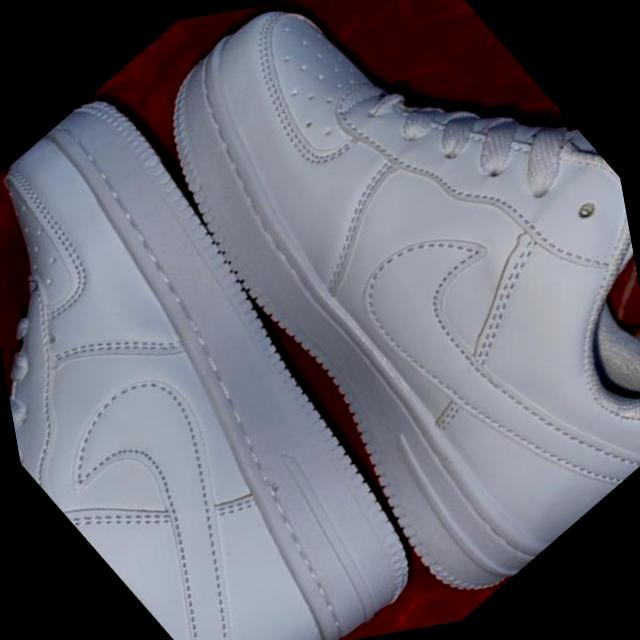nike_fake_airforce: (48, 0, 640, 640), (0, 33, 498, 640)
